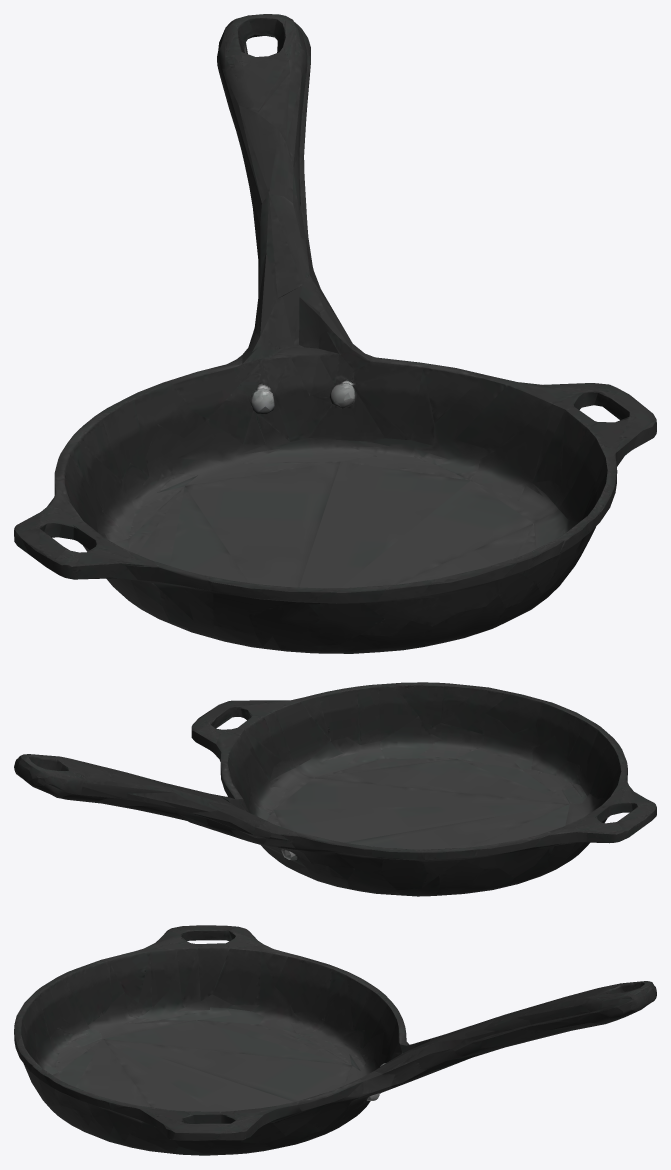
Rendered from frying_pan.glb.
The picture shows the model from 3 angles, top to bottom: view 1: azimuth 30°, elevation 25°; view 2: azimuth 150°, elevation 25°; view 3: azimuth 270°, elevation 25°; orthographic projection. The views are drawn at different scales.
Size of the model in its own units: 1.46 by 0.6053 by 1.9.
1 material, 1 textured.
